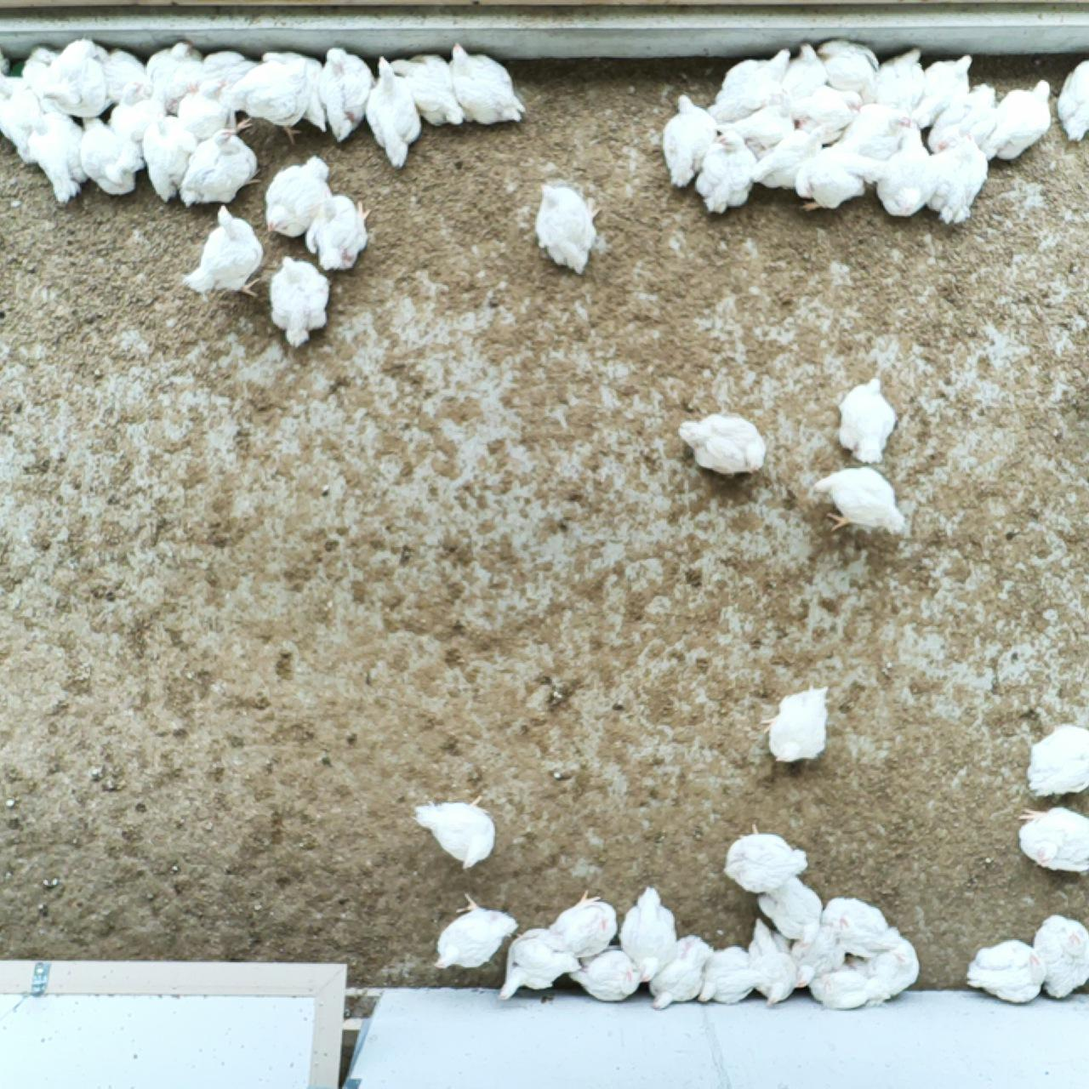chicken: (218, 57, 316, 149), (177, 208, 262, 302), (444, 39, 528, 129), (497, 922, 586, 1006), (364, 56, 427, 173), (704, 46, 793, 125), (533, 181, 605, 278), (432, 891, 516, 974), (181, 124, 262, 210), (809, 462, 903, 536), (723, 818, 813, 895), (411, 797, 502, 872), (385, 51, 471, 130), (25, 103, 92, 204), (261, 153, 334, 245), (678, 408, 770, 480), (105, 82, 172, 180), (267, 255, 335, 348), (300, 186, 371, 275), (985, 77, 1055, 167), (921, 129, 984, 229), (907, 51, 978, 137), (35, 38, 112, 117), (761, 682, 834, 765), (259, 49, 331, 133), (784, 79, 863, 155), (874, 120, 931, 224), (316, 46, 377, 143), (714, 86, 801, 154), (796, 146, 881, 215), (617, 882, 676, 981), (754, 868, 827, 948), (171, 75, 254, 145), (966, 936, 1044, 1010), (540, 889, 620, 961), (1029, 909, 1089, 1004), (844, 933, 924, 1004), (836, 374, 899, 464), (818, 893, 900, 962), (696, 130, 759, 219), (1009, 807, 1089, 877), (641, 934, 713, 1011), (662, 90, 717, 190), (1019, 719, 1089, 797), (137, 38, 207, 115), (805, 948, 889, 1011), (743, 916, 799, 1010), (179, 50, 269, 106), (75, 111, 135, 195), (782, 917, 850, 991), (936, 81, 1002, 157), (751, 124, 823, 193), (142, 111, 195, 204), (838, 100, 915, 161), (869, 40, 933, 113), (0, 64, 41, 171), (691, 945, 760, 1006), (90, 42, 153, 107), (20, 41, 71, 121), (569, 948, 640, 1004), (817, 37, 878, 98), (1055, 56, 1089, 151), (776, 40, 827, 101)
